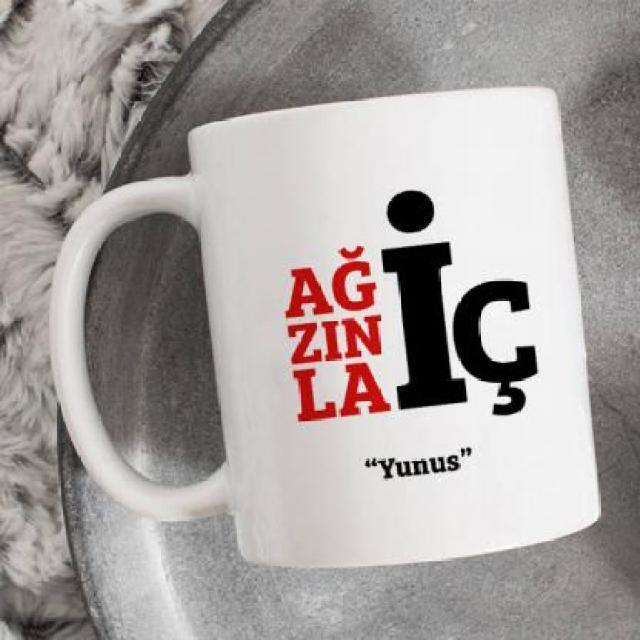taza: (58, 74, 592, 584)
